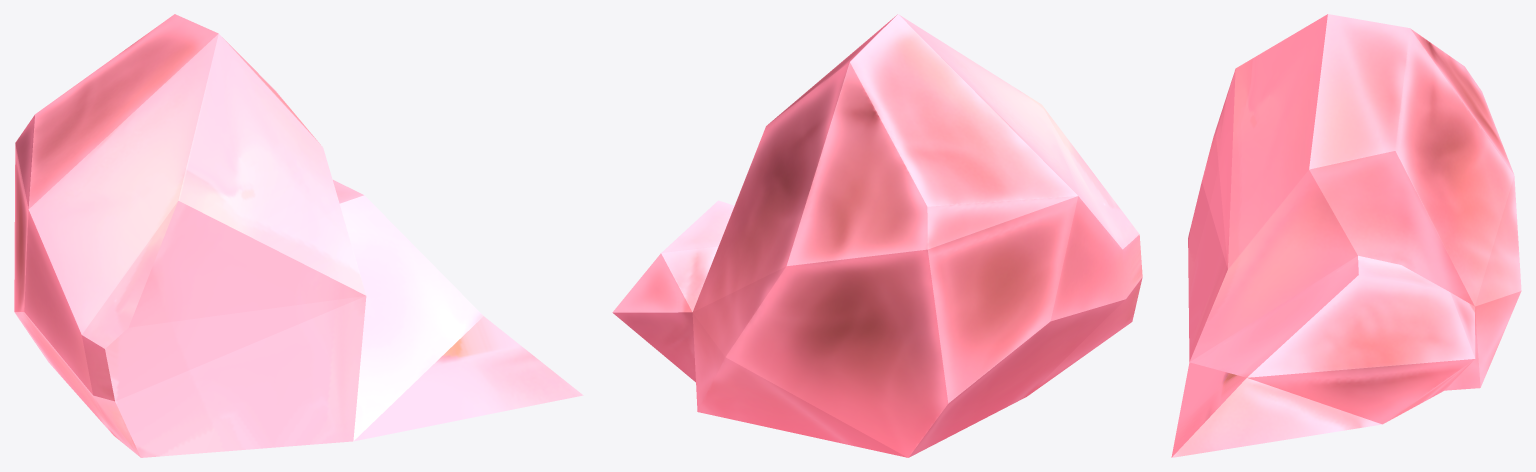
The model's file is crystal_red_single4.fbx.
3 views of the same model, side by side, from view 1: azimuth 30°, elevation 25°; view 2: azimuth 150°, elevation 25°; view 3: azimuth 270°, elevation 25° (orthographic). The views are drawn at different scales.
Visible parts, largest first — view 1: crystal_red_single_004; view 2: crystal_red_single_004; view 3: crystal_red_single_004.
Part boxes in pixels (x1,y1,x2,y2): crystal_red_single_004: (14, 14, 583, 457); crystal_red_single_004: (612, 14, 1142, 457); crystal_red_single_004: (1171, 14, 1521, 457).
Size of the model in its own units: 0.8683 by 0.6557 by 0.6413.
